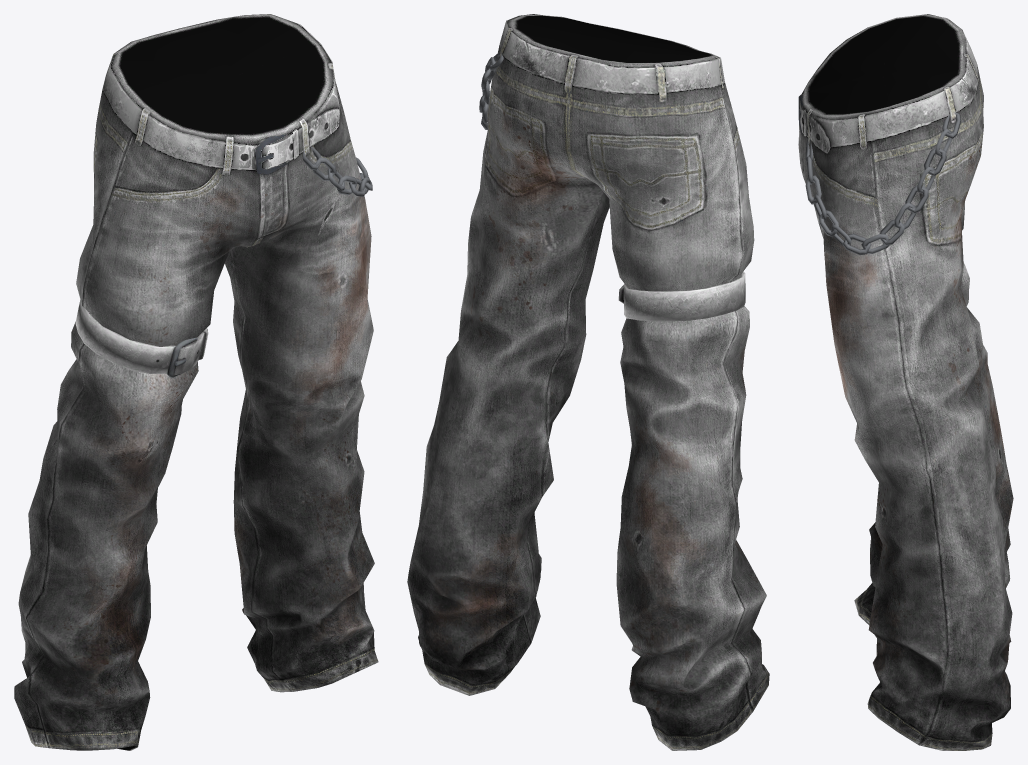
The model's file is SurvivorMale_Legs_Pants_BaggyChainLegBelt_LOD0.glb.
3 renders of one model, left to right at view 1: azimuth 30°, elevation 25°; view 2: azimuth 150°, elevation 25°; view 3: azimuth 270°, elevation 25°, orthographic. The views are drawn at different scales.
Parts seen in each view (by area): view 1: Hoodie; view 2: Hoodie; view 3: Hoodie.
Part boxes in pixels (x1,y1,x2,y2): Hoodie: [14, 14, 378, 750]; Hoodie: [407, 14, 769, 750]; Hoodie: [798, 14, 1013, 750].
Bounding box in the file's own units: 0.5418 × 1.05 × 0.3185.
1 material, 1 textured.
